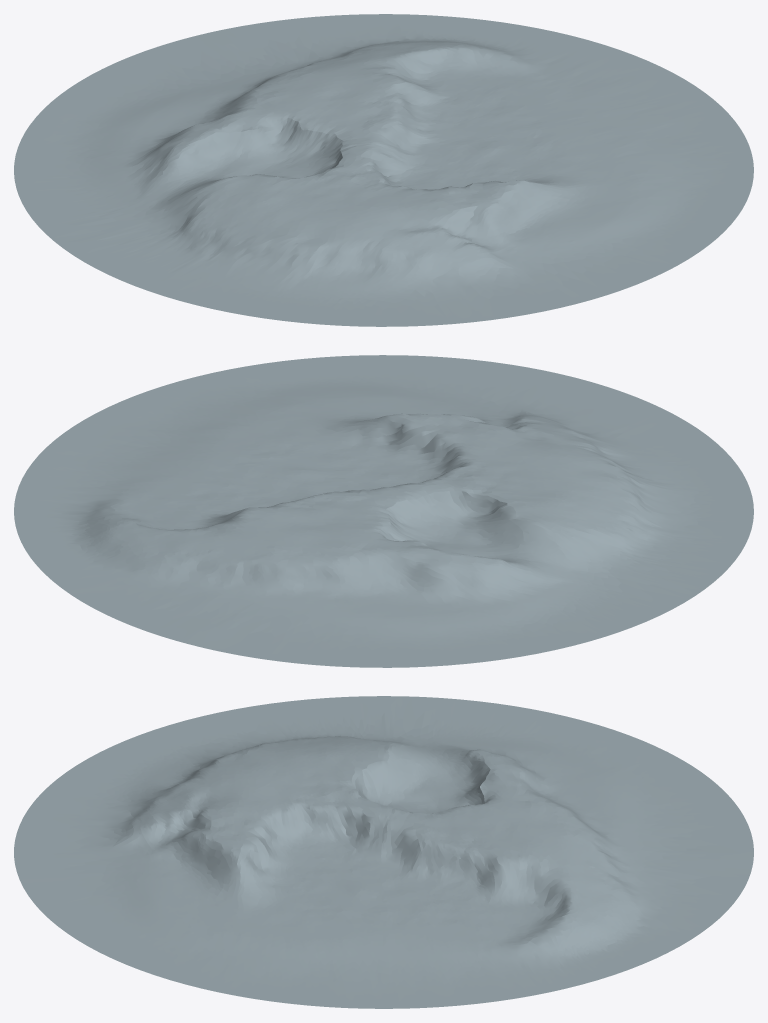
File: island_map_B_circle_deep.fbx
3 renders of one model, top to bottom at view 1: azimuth 30°, elevation 25°; view 2: azimuth 150°, elevation 25°; view 3: azimuth 270°, elevation 25°, orthographic.
Parts seen in each view (by area): view 1: island_map_B_circle_deep; view 2: island_map_B_circle_deep; view 3: island_map_B_circle_deep.
Boxes of the visible parts, x1=… form: island_map_B_circle_deep: x1=14, y1=14, x2=753, y2=326; island_map_B_circle_deep: x1=14, y1=355, x2=753, y2=667; island_map_B_circle_deep: x1=14, y1=696, x2=753, y2=1008.
Bounding box in the file's own units: 26005 × 1117 × 26000.
